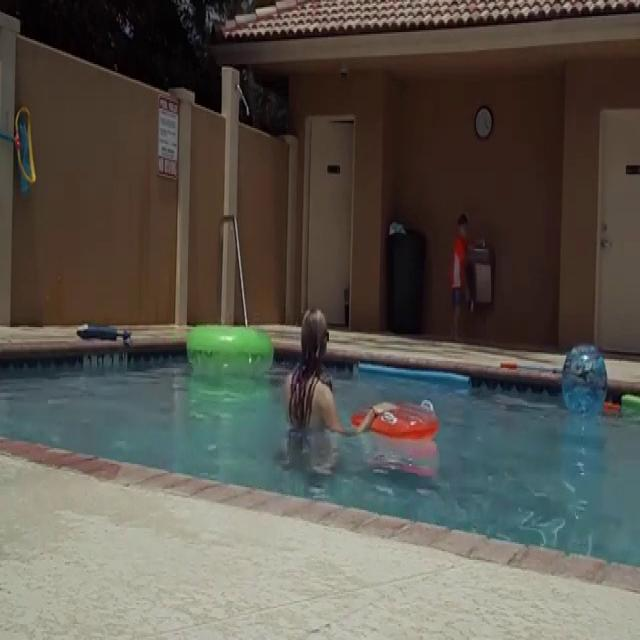adult: (286, 302, 394, 490)
child: (446, 208, 473, 340)
